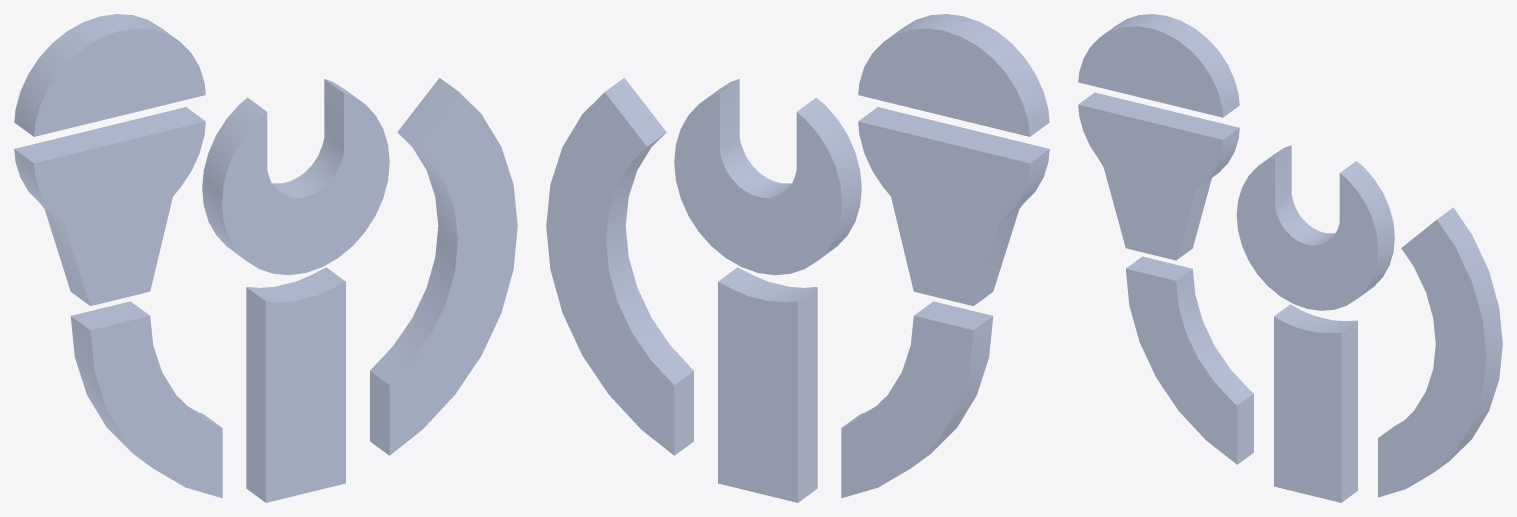
Rendered from ps2_save-icons_singstarnorsk-settings.glb.
3 renders of one model, left to right at view 1: azimuth 30°, elevation 25°; view 2: azimuth 150°, elevation 25°; view 3: azimuth 330°, elevation 25°, orthographic. The views are drawn at different scales.
Visible parts, largest first — view 1: options.ico; view 2: options.ico; view 3: options.ico.
Part boxes in pixels (x1,y1,x2,y2): options.ico: (14, 14, 517, 502); options.ico: (546, 14, 1049, 502); options.ico: (1078, 14, 1502, 502).
Size of the model in its own units: 4.68 by 4.69 by 0.3303.
Materials: 1 (1 with a texture image).
